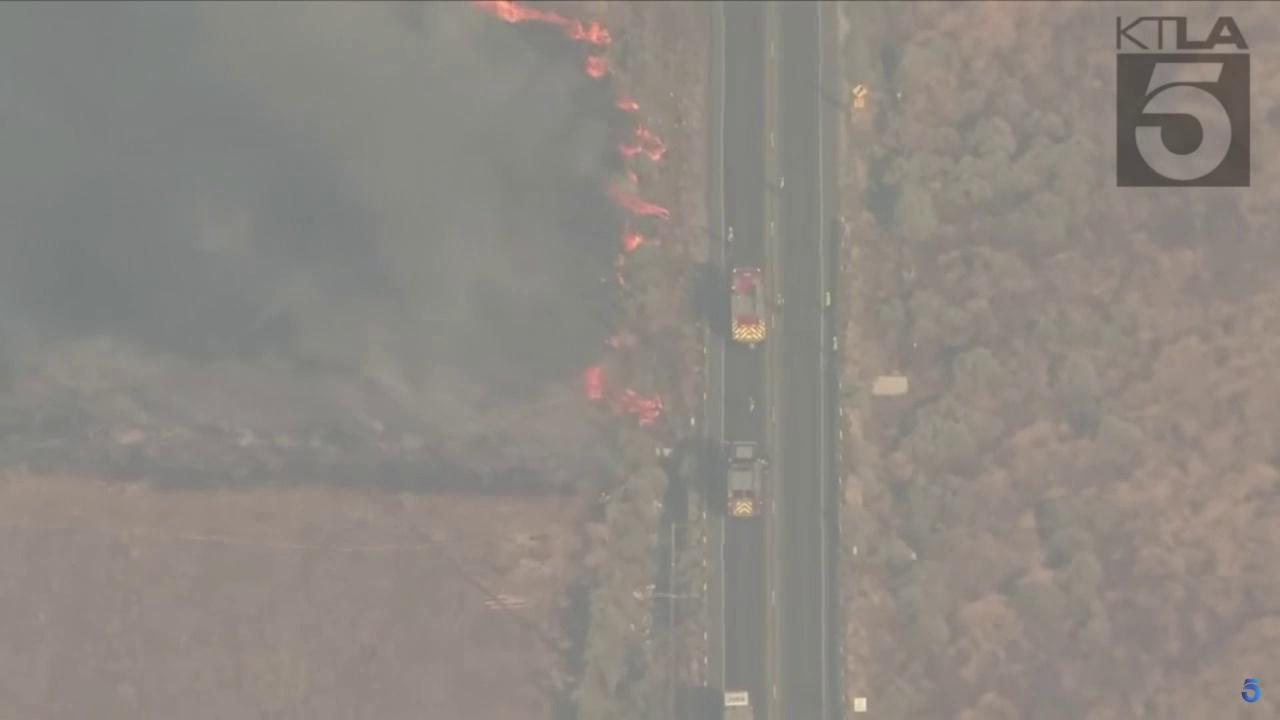fire: (470, 1, 614, 46), (612, 389, 665, 429), (608, 190, 671, 222), (617, 124, 667, 162), (581, 364, 605, 401), (584, 52, 610, 80), (621, 230, 645, 253), (613, 95, 641, 112), (628, 170, 641, 184), (615, 273, 626, 286)
smoke: (0, 0, 631, 491)
